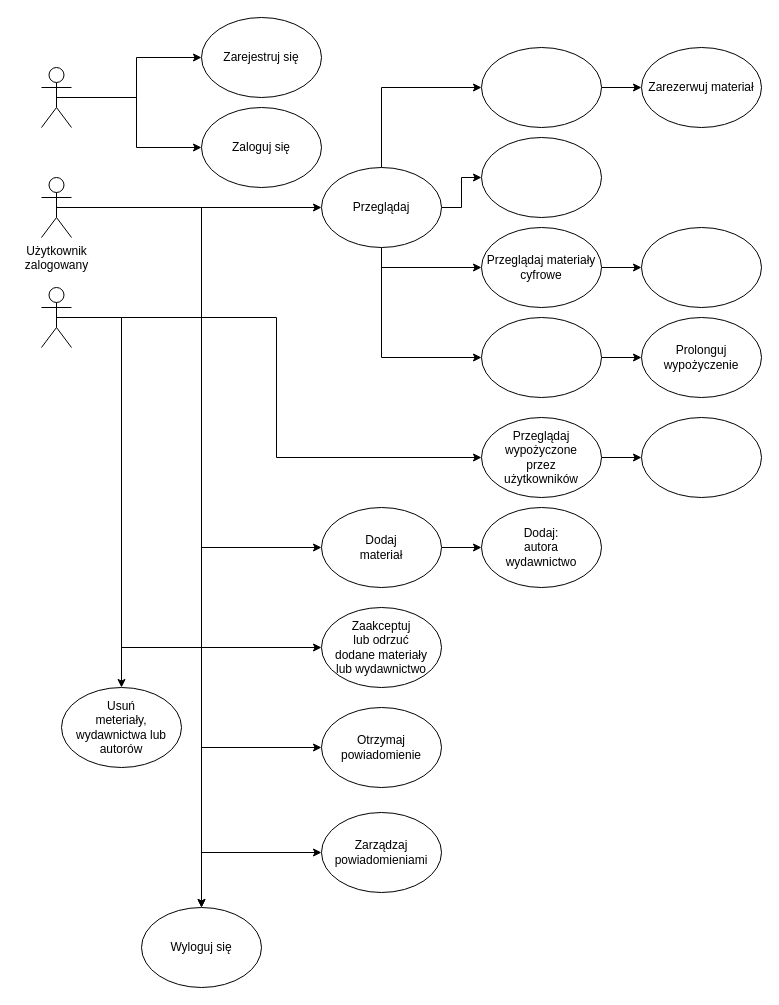
Some shapes in this 779 by 1005 pixel diagram are drawn without their labels. Each missing label, with the centre of its shape:
"Administrator" belongs at pixel 56 317.
"Akceptuj lub odrzuć" belongs at pixel 701 457.
"Pobierz materiał" belongs at pixel 701 267.
"Przeglądaj dostępne materiały papierowe" belongs at pixel 541 87.
"Przeglądaj niedostępne materiały papierowe" belongs at pixel 541 177.
"Przeglądaj wypożyczone przez użytkownika" belongs at pixel 541 357.
"Użytkownik niezalogowany" belongs at pixel 56 97.
